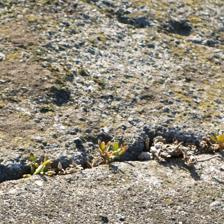Crack: (2, 63, 213, 126)
